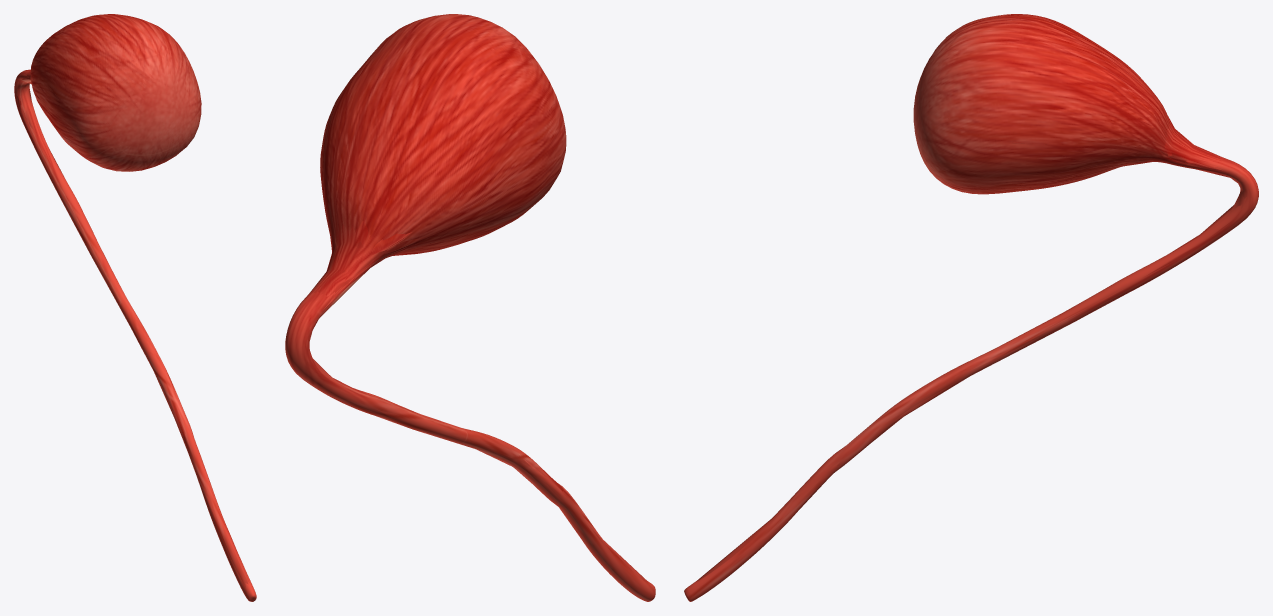
The model's file is Urinary Bladder.fbx.
The picture shows the model from 3 angles, left to right: view 1: azimuth 30°, elevation 25°; view 2: azimuth 150°, elevation 25°; view 3: azimuth 270°, elevation 25°; orthographic projection. The views are drawn at different scales.
Parts seen in each view (by area): view 1: Urinary Bladder high, Urinary Bladder low, Urinary Bladder; view 2: Urinary Bladder high, Urinary Bladder low, Urinary Bladder; view 3: Urinary Bladder high, Urinary Bladder low, Urinary Bladder.
Boxes of the visible parts, <box> form: Urinary Bladder high: <box>14,14,256,601</box>; Urinary Bladder low: <box>16,54,249,587</box>; Urinary Bladder: <box>16,14,238,579</box>; Urinary Bladder high: <box>285,14,655,601</box>; Urinary Bladder low: <box>309,79,650,584</box>; Urinary Bladder: <box>309,17,644,590</box>; Urinary Bladder high: <box>684,14,1258,601</box>; Urinary Bladder low: <box>697,37,1247,581</box>; Urinary Bladder: <box>710,16,1241,582</box>.
Size of the model in its own units: 11.84 by 43.32 by 38.92.
